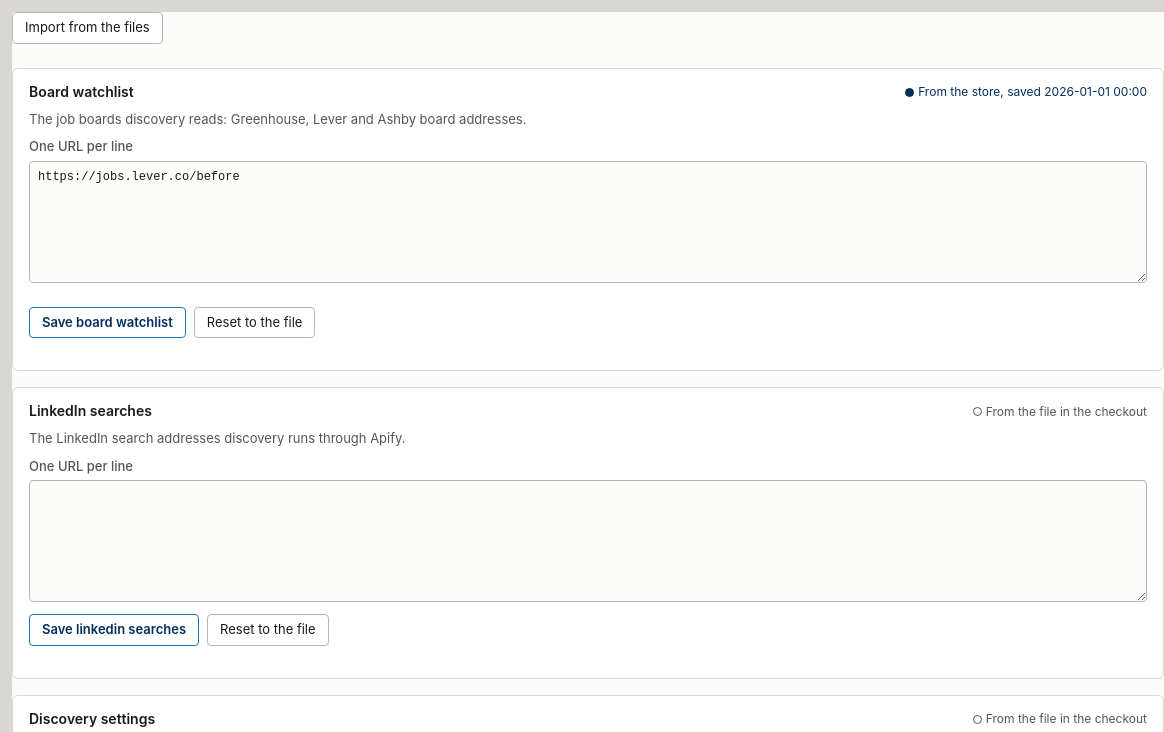
Scenario: an import with nothing to import says so in the server's words
Click the button "Import from the files": (87, 28) [12,12,163,44]
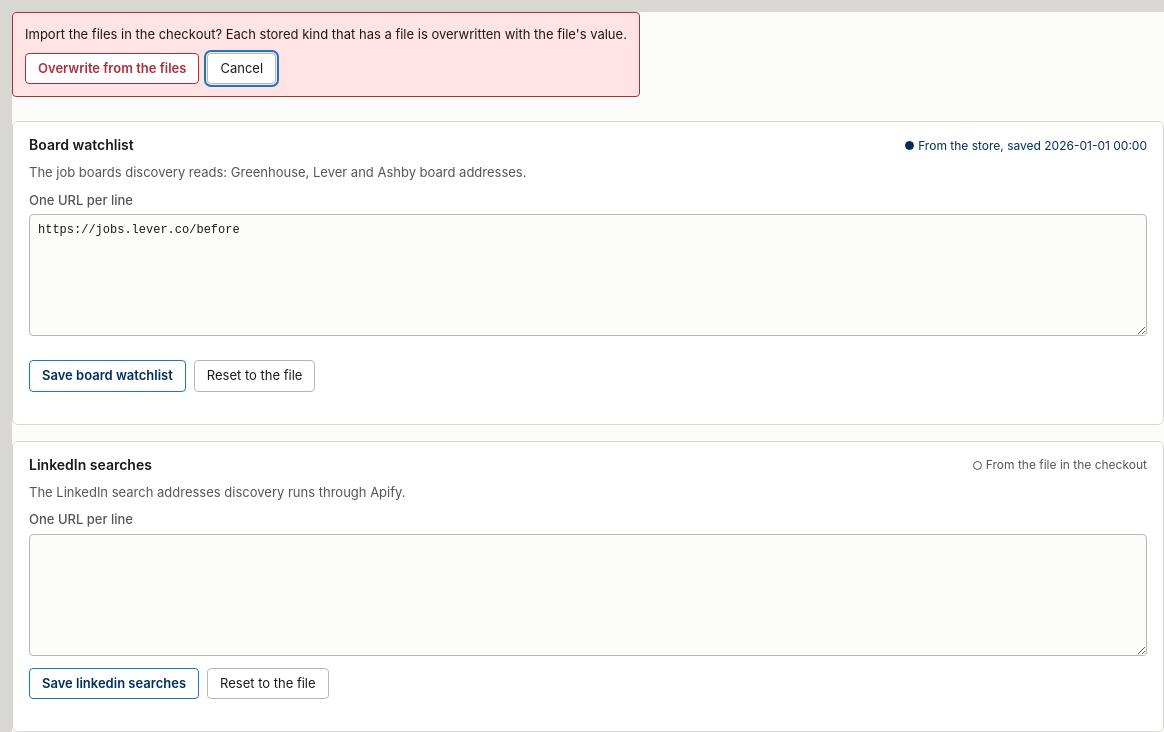
Click the button "Overwrite from the files": (112, 68) [25,52,200,84]
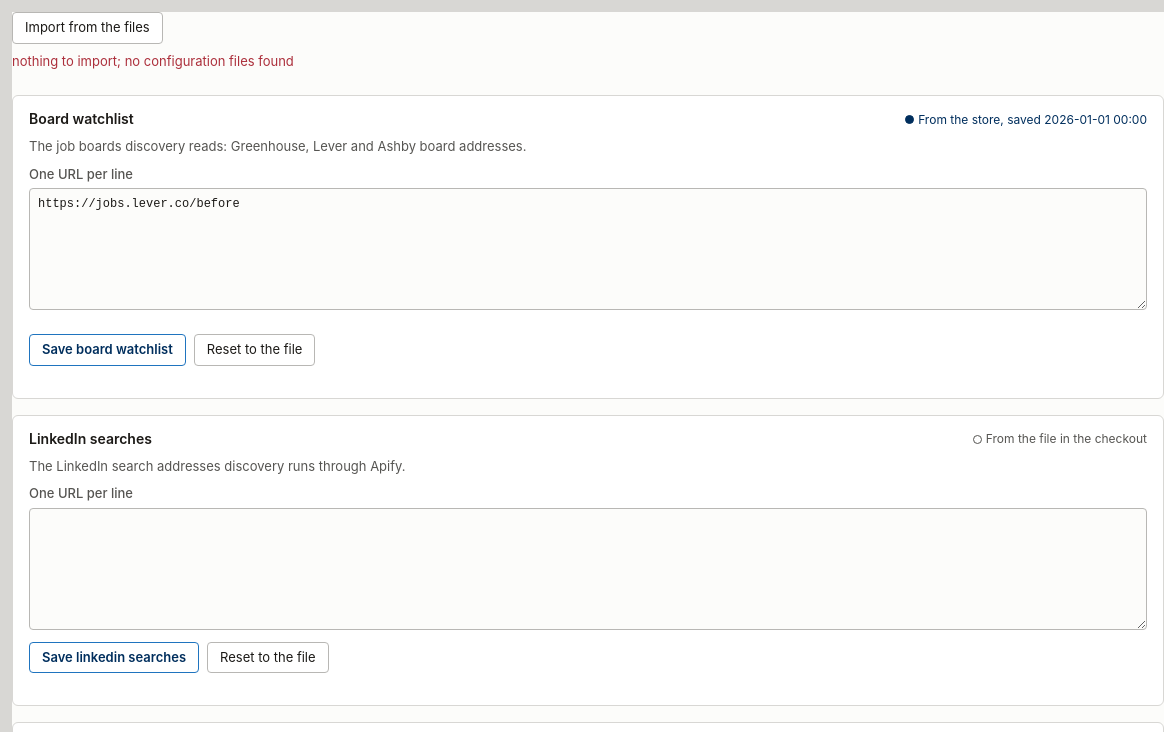
Now the message "nothing to import; no configuration files found" is shown, box [12,52,294,71]
